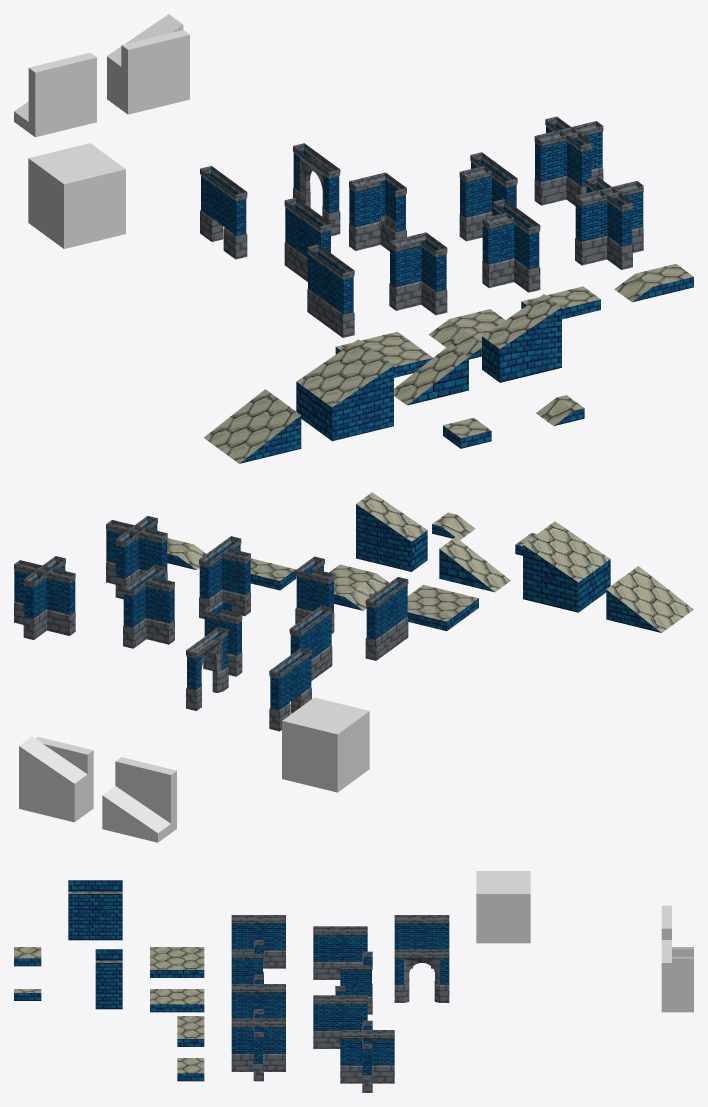
Rendered from gridtiles4.glb.
3 renders of one model, top to bottom at view 1: azimuth 30°, elevation 25°; view 2: azimuth 150°, elevation 25°; view 3: azimuth 270°, elevation 25°, orthographic. The views are drawn at different scales.
Parts seen in each view (by area): view 1: Cube, ramp_2_upper, ramp_wall_up_1, x_wall_3, ramp_wall_down_1, ramp_2_upper.001, x_wall_3_edge, t_wall_3, ramp_2_lower, corner_3, corner_3_edge, wall_3 (+11 smaller); view 2: Cube, ramp_2_upper, ramp_wall_up_1, ramp_wall_down_1, x_wall_3_edge, ramp_2_upper.001, ramp_2_lower, t_wall_3_edge, x_wall_3, t_wall_3, wall_3, wall_3_vent (+10 smaller); view 3: Cube, x_wall_3_edge, x_wall_3, ramp_2_upper, wall_3_edge, t_wall_3_edge, wall_3, wall_3_vent.001, ramp_wall_up_1, wall_3_vent, t_wall_3, floor_3 (+9 smaller).
Boxes of the visible parts, x1=… form: Cube: x1=28, y1=143, x2=125, y2=248; ramp_2_upper: x1=296, y1=339, x2=393, y2=441; ramp_wall_up_1: x1=107, y1=14, x2=189, y2=114; x_wall_3: x1=575, y1=176, x2=643, y2=269; ramp_wall_down_1: x1=14, y1=52, x2=96, y2=137; ramp_2_upper.001: x1=482, y1=294, x2=561, y2=382; x_wall_3_edge: x1=534, y1=116, x2=603, y2=205; t_wall_3: x1=482, y1=199, x2=540, y2=292; ramp_2_lower: x1=204, y1=389, x2=301, y2=463; corner_3: x1=389, y1=232, x2=447, y2=315; corner_3_edge: x1=349, y1=172, x2=406, y2=251; wall_3: x1=307, y1=244, x2=354, y2=337; Cube: x1=282, y1=697, x2=369, y2=792; ramp_2_upper: x1=523, y1=521, x2=610, y2=612; ramp_wall_up_1: x1=19, y1=736, x2=93, y2=822; ramp_wall_down_1: x1=102, y1=757, x2=176, y2=842; x_wall_3_edge: x1=14, y1=556, x2=75, y2=639; ramp_2_upper.001: x1=356, y1=492, x2=427, y2=571; ramp_2_lower: x1=606, y1=566, x2=693, y2=632; t_wall_3_edge: x1=123, y1=564, x2=174, y2=648; x_wall_3: x1=106, y1=516, x2=167, y2=599; t_wall_3: x1=199, y1=536, x2=250, y2=618; wall_3: x1=365, y1=577, x2=408, y2=660; wall_3_vent: x1=269, y1=647, x2=311, y2=731; Cube: x1=476, y1=871, x2=530, y2=943; x_wall_3_edge: x1=340, y1=1020, x2=394, y2=1092; x_wall_3: x1=231, y1=1009, x2=285, y2=1081; ramp_2_upper: x1=68, y1=891, x2=122, y2=940; wall_3_edge: x1=313, y1=926, x2=367, y2=979; t_wall_3_edge: x1=313, y1=986, x2=367, y2=1048; wall_3: x1=231, y1=915, x2=285, y2=968; wall_3_vent.001: x1=394, y1=949, x2=449, y2=1002; ramp_wall_up_1: x1=661, y1=940, x2=693, y2=1012; wall_3_vent: x1=394, y1=915, x2=449, y2=968; t_wall_3: x1=231, y1=974, x2=285, y2=1018; floor_3: x1=150, y1=947, x2=204, y2=977.
Bounding box in the file's own units: 18 × 2.16 × 25.
Materials: 20 (20 with a texture image).
